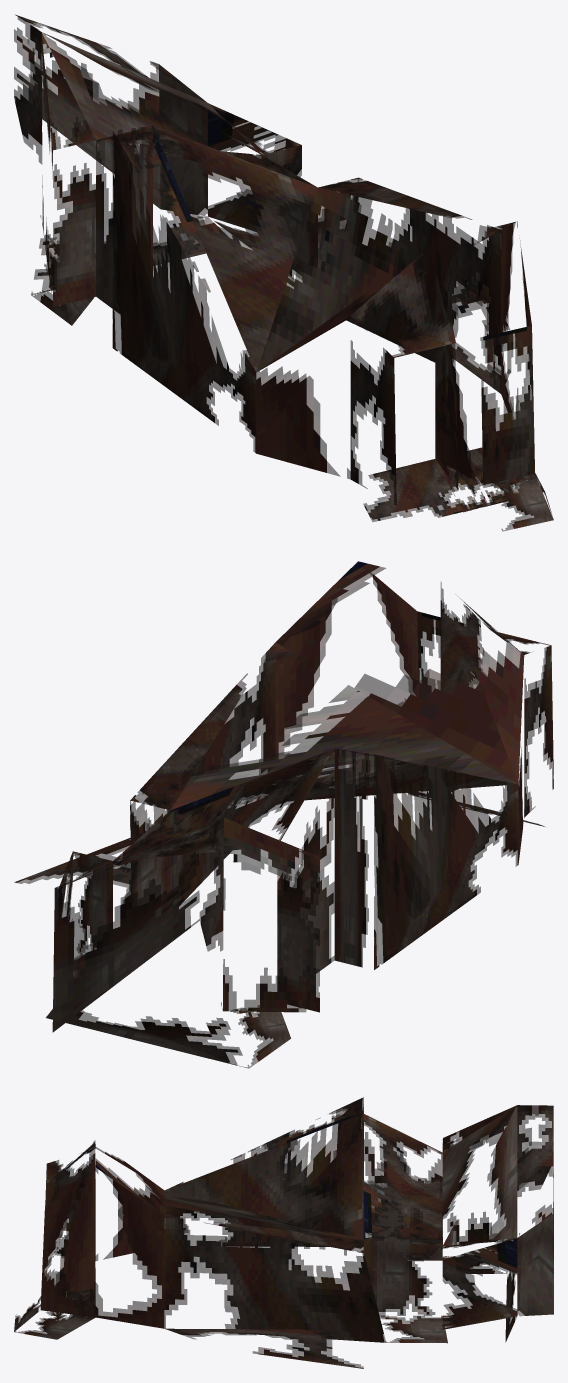
3 renders of one model, top to bottom at view 1: azimuth 30°, elevation 25°; view 2: azimuth 150°, elevation 25°; view 3: azimuth 270°, elevation 25°, orthographic. The views are drawn at different scales.
Parts seen in each view (by area): view 1: Hk_obj_066; view 2: Hk_obj_066; view 3: Hk_obj_066.
Boxes of the visible parts, x1,y1,x2,y2 form: Hk_obj_066: (14,14,553,531); Hk_obj_066: (14,561,553,1068); Hk_obj_066: (14,1097,553,1368).
Bounding box in the file's own units: 1.84 × 1.24 × 3.42.
1 material, 1 textured.
